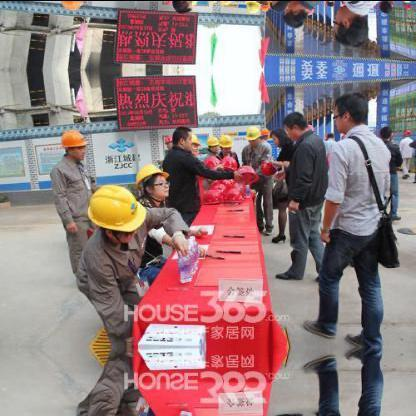Helmet: (82, 186, 146, 245), (133, 160, 175, 200), (58, 127, 88, 161), (216, 130, 233, 154), (243, 122, 259, 146), (186, 130, 200, 154), (57, 0, 88, 10), (204, 134, 218, 152), (242, 0, 260, 14), (185, 0, 201, 7), (216, 0, 234, 6), (204, 0, 219, 3)
No Helmet: (332, 90, 368, 132), (332, 4, 368, 46), (169, 122, 197, 152), (280, 0, 305, 29), (280, 108, 303, 138), (168, 0, 198, 14), (269, 127, 289, 146), (378, 121, 392, 143), (377, 0, 393, 16), (268, 0, 289, 10)
